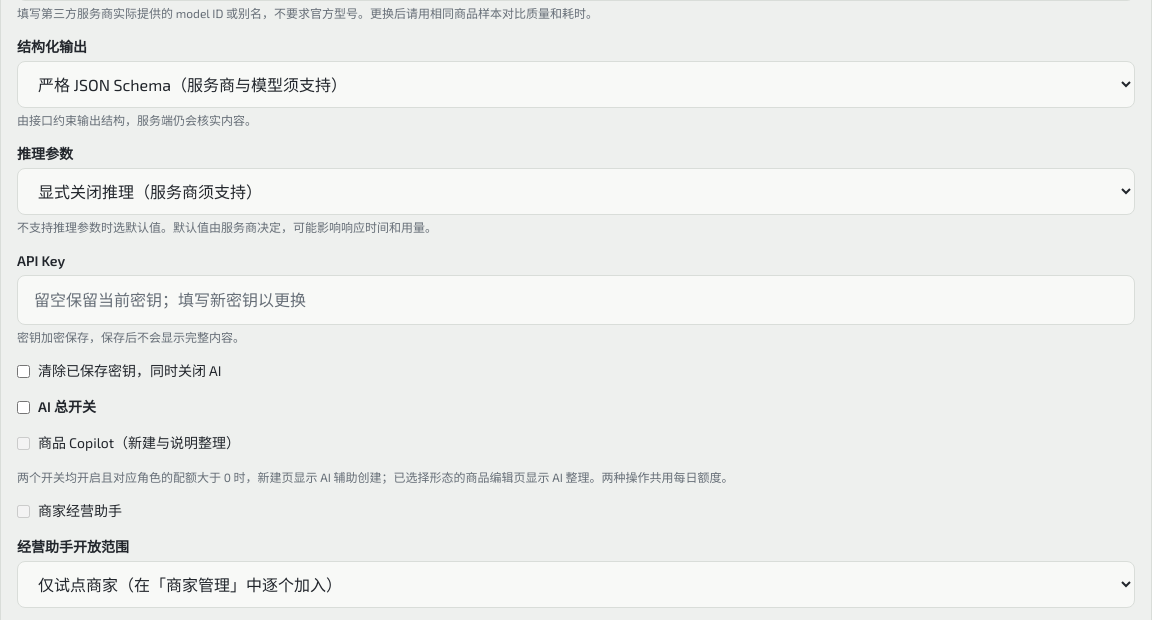
Scenario: Admin AI settings › keeps a conflict visible, clears submitted credentials and permits a reload
(page scrolled)
Type "sk-ui-SECRET_SENTINEL_123456" into the password field labelled "API Key" at (576, 300), box left=17, top=275, right=1135, bottom=325
(page scrolled)
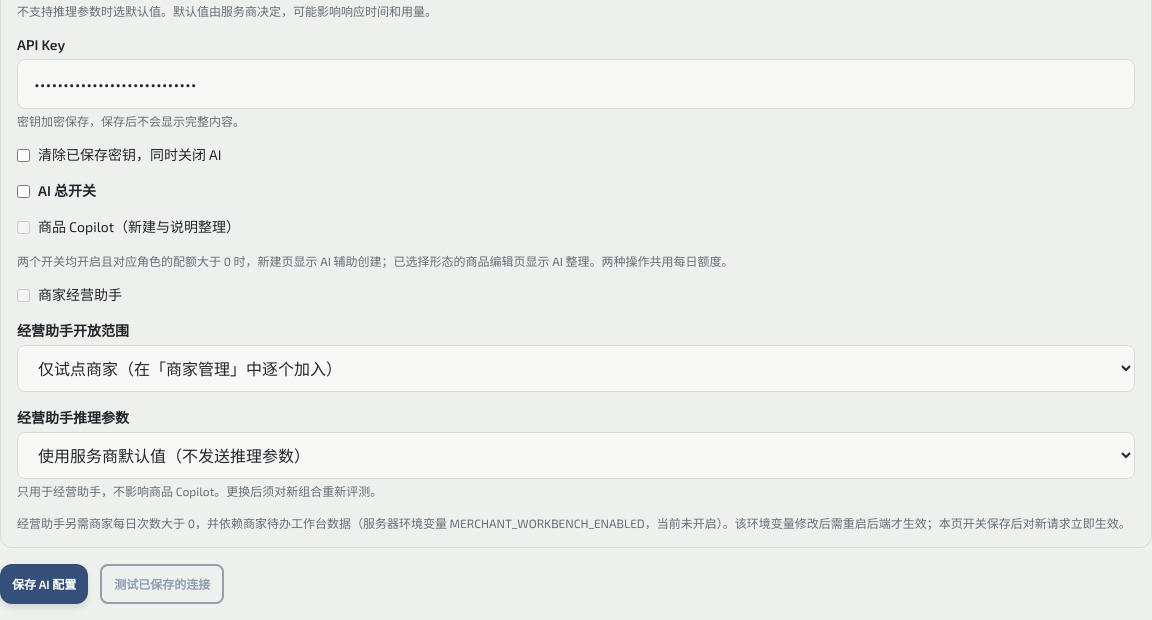
Click the button "保存 AI 配置" at (44, 584), box left=0, top=564, right=88, bottom=604
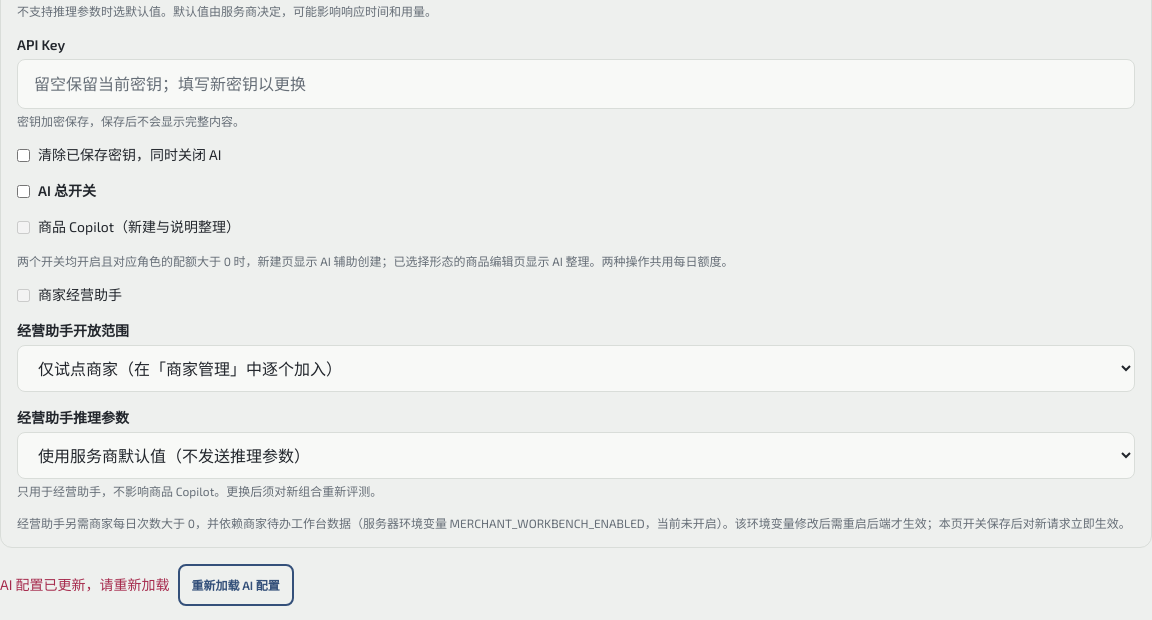
Check: the text "AI 配置已更新，请重新加载" is shown, box left=0, top=576, right=170, bottom=593
Check: the password field labelled "API Key" is empty, box left=17, top=59, right=1135, bottom=109
Click the button "重新加载 AI 配置" at (236, 585), box left=178, top=564, right=294, bottom=606
(page scrolled)
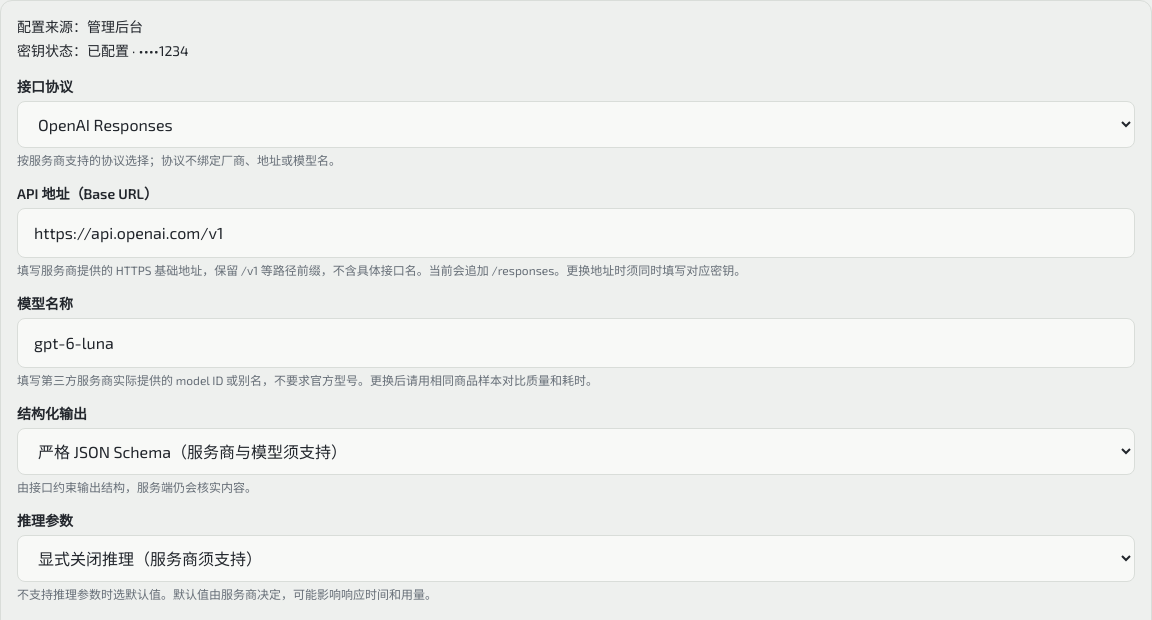
Check: the text "AI 配置已更新，请重新加载" is gone
